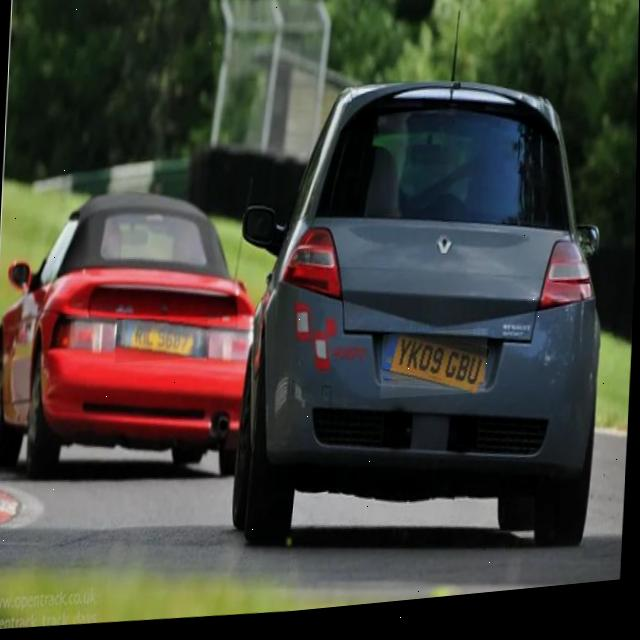LicensePlate: (382, 342, 487, 402), (117, 323, 208, 362)
